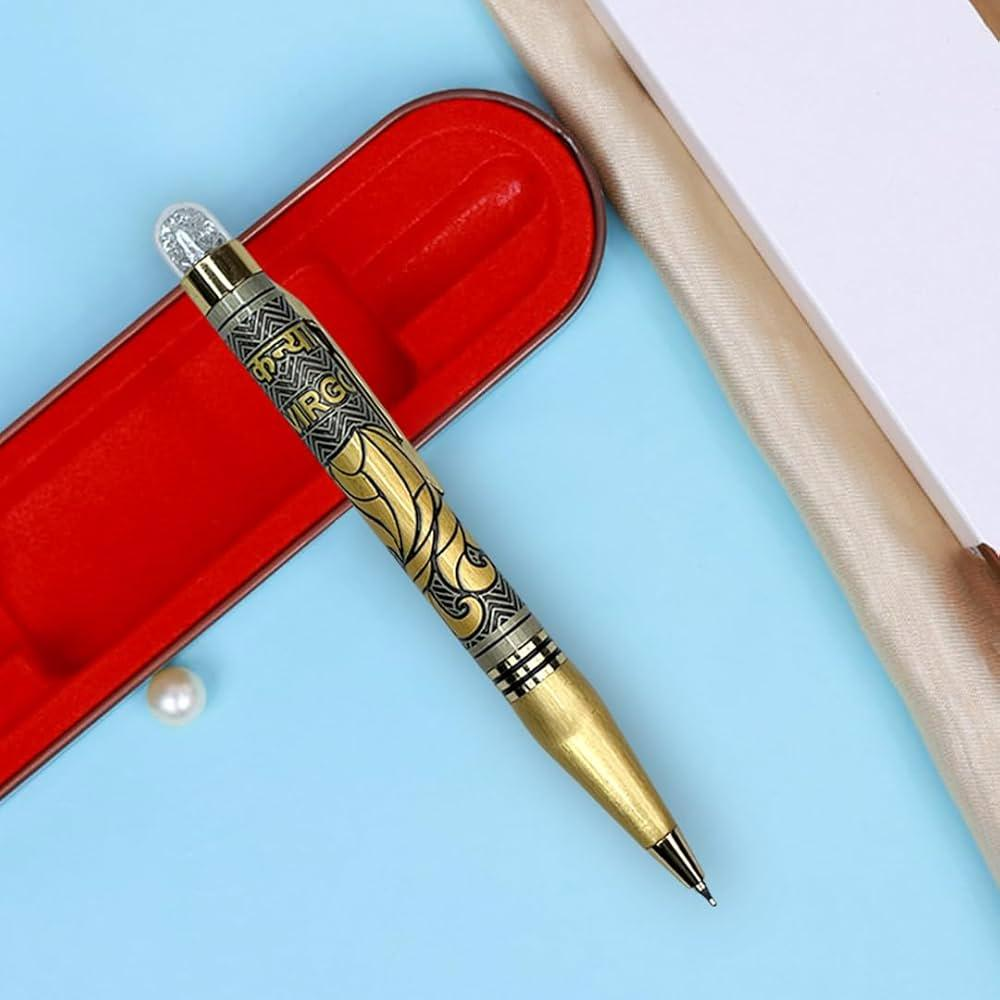Ballpen: (156, 204, 715, 905)
